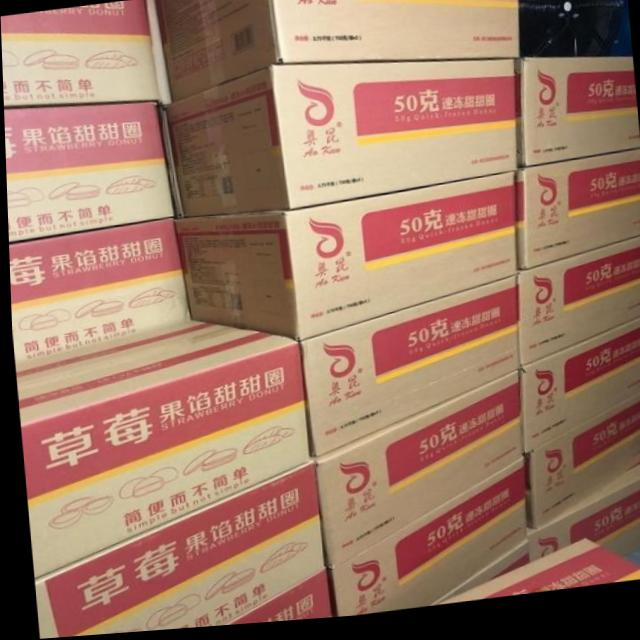box: (13, 321, 305, 579), (171, 178, 514, 346), (165, 68, 515, 220), (30, 465, 318, 639), (309, 378, 520, 574), (297, 284, 518, 460), (155, 0, 519, 105), (325, 464, 523, 622), (7, 221, 189, 364), (3, 103, 173, 241), (514, 325, 640, 462), (0, 0, 159, 108), (520, 399, 640, 537), (516, 245, 640, 377), (514, 158, 640, 278), (424, 548, 640, 612), (515, 66, 639, 175), (520, 471, 640, 571), (424, 549, 528, 611), (226, 576, 325, 628)
